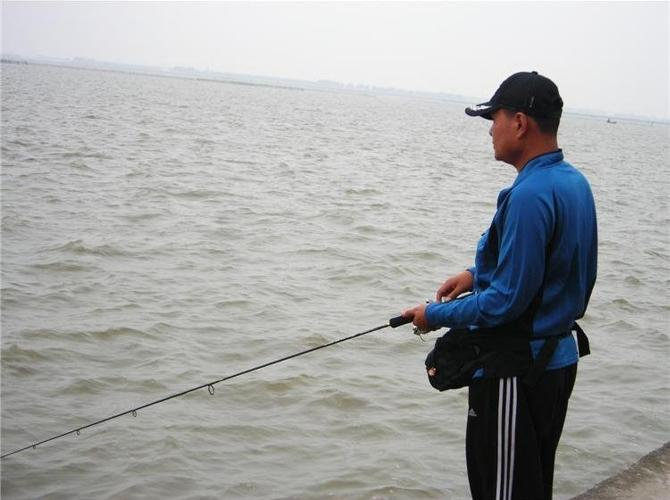person: (399, 71, 602, 500)
